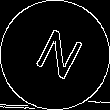N_SW: (26, 24, 84, 86)
